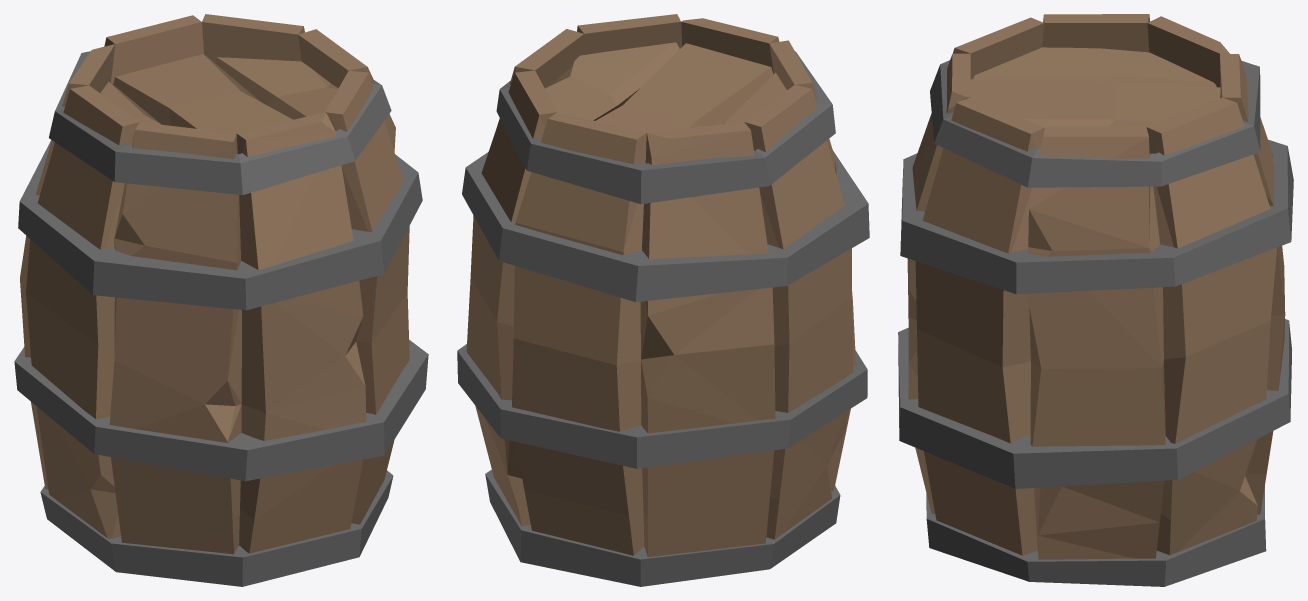
File: Barrel.fbx
3 views of the same model, side by side, from view 1: azimuth 30°, elevation 25°; view 2: azimuth 150°, elevation 25°; view 3: azimuth 270°, elevation 25° (orthographic). The views are drawn at different scales.
Visible parts, largest first — view 1: Barrel; view 2: Barrel; view 3: Barrel.
Part boxes in pixels (box(x1,y1,x2,y2)): Barrel: box(14, 14, 428, 586); Barrel: box(457, 14, 869, 586); Barrel: box(898, 14, 1293, 586).
Size of the model in its own units: 1.83 by 2.28 by 1.83.
